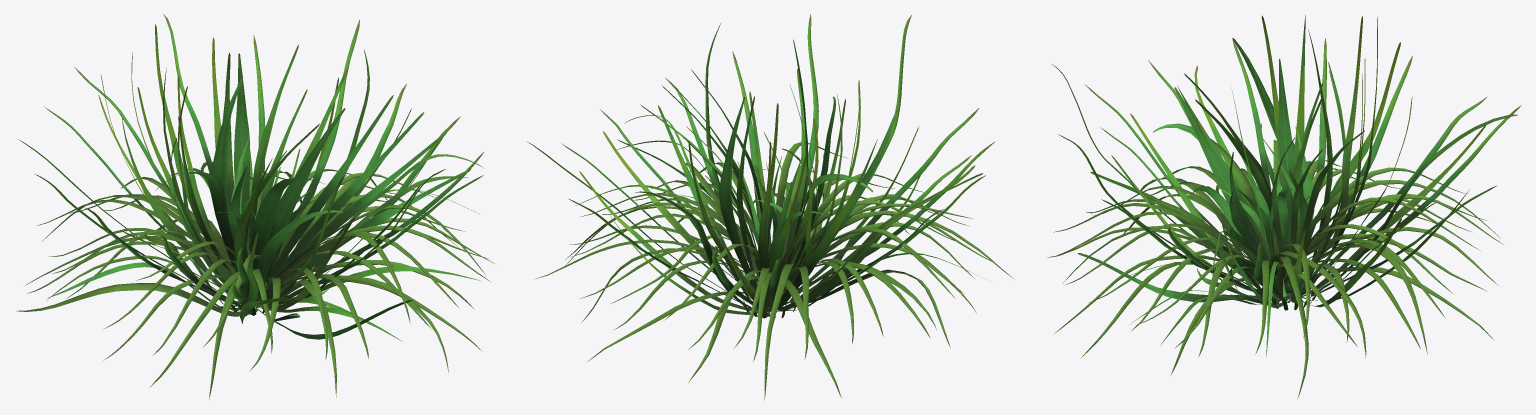
The model's file is Grass_01.glb.
3 views of the same model, side by side, from view 1: azimuth 30°, elevation 25°; view 2: azimuth 150°, elevation 25°; view 3: azimuth 270°, elevation 25° (orthographic). The views are drawn at different scales.
Parts seen in each view (by area): view 1: patch_of_long_grass.1_1; view 2: patch_of_long_grass.1_1; view 3: patch_of_long_grass.1_1.
Part boxes in pixels (x1,y1,x2,y2): patch_of_long_grass.1_1: [16, 14, 494, 399]; patch_of_long_grass.1_1: [527, 14, 1014, 400]; patch_of_long_grass.1_1: [1047, 15, 1521, 398].
Bounding box in the file's own units: 0.0829 × 0.0477 × 0.0797.
Materials: 1 (1 with a texture image).
